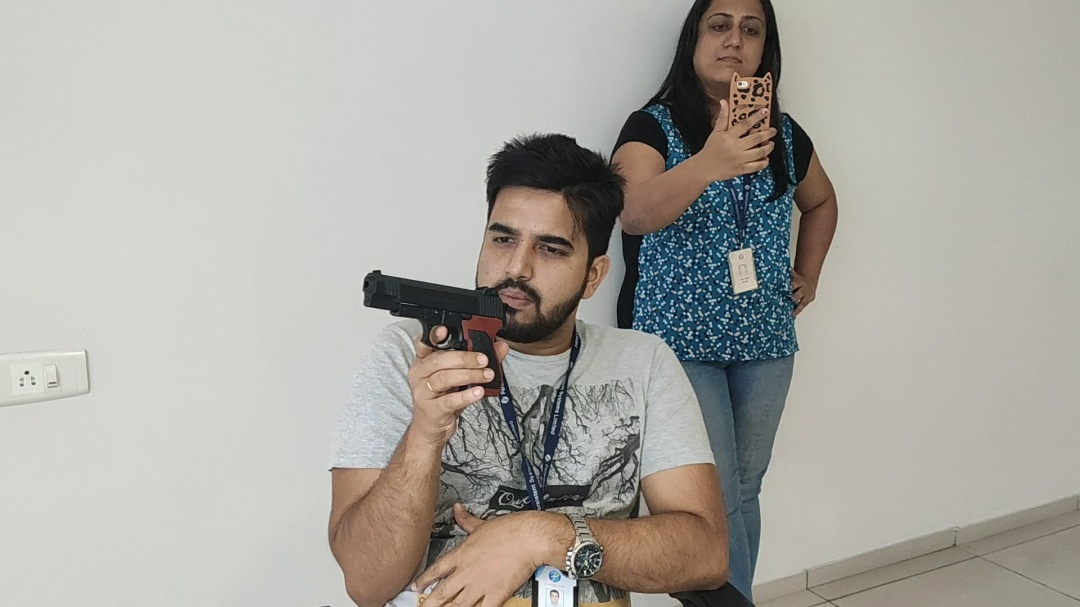gun: (362, 270, 505, 398)
